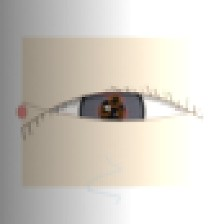foreign_body_visible: (110, 105, 131, 122)
